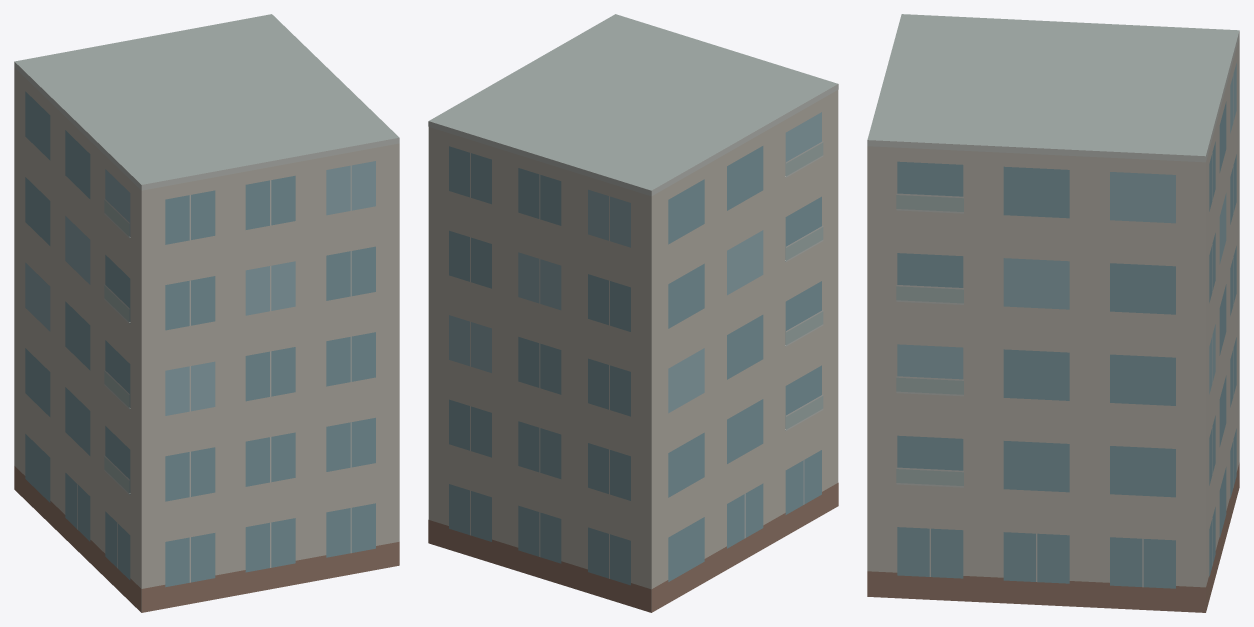
File: survey-upis-32930688.glb
The picture shows the model from 3 angles, left to right: view 1: azimuth 30°, elevation 25°; view 2: azimuth 150°, elevation 25°; view 3: azimuth 270°, elevation 25°; orthographic projection. The views are drawn at different scales.
Parts seen in each view (by area): view 1: survey-upis-32930688.tmp; view 2: survey-upis-32930688.tmp; view 3: survey-upis-32930688.tmp.
Part boxes in pixels (x1,y1,x2,y2): survey-upis-32930688.tmp: (14, 14, 399, 612); survey-upis-32930688.tmp: (428, 14, 838, 612); survey-upis-32930688.tmp: (867, 14, 1239, 612).
Bounding box in the file's own units: 12.09 × 18.1 × 13.38.
